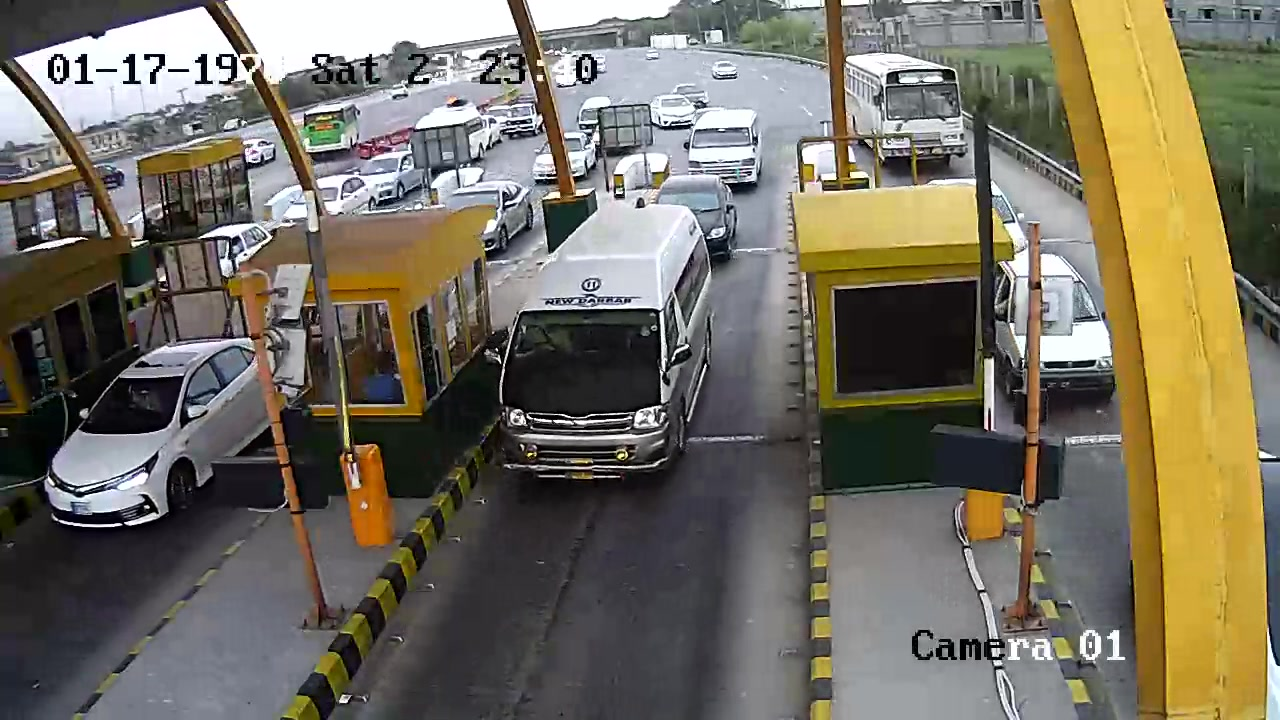F2: (488, 198, 718, 485)
